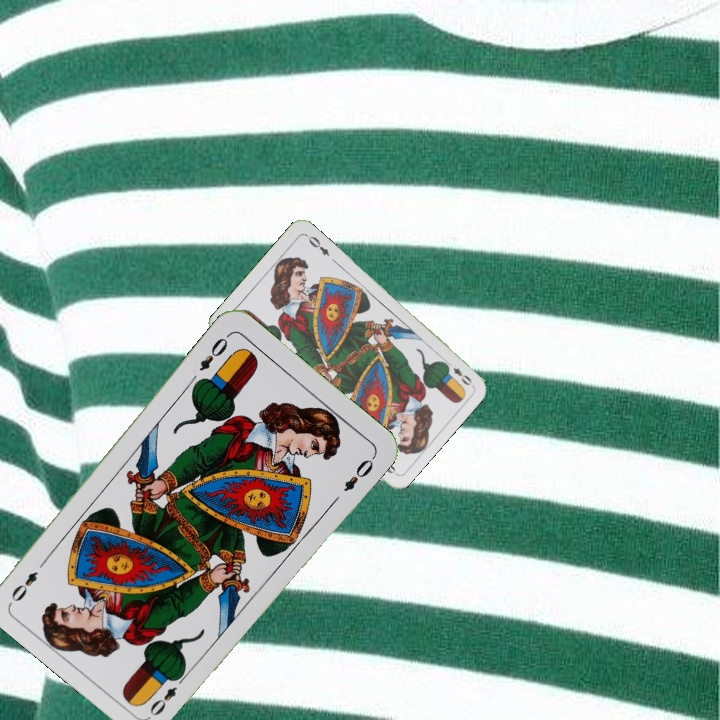EO: (145, 669, 189, 719), (195, 329, 233, 374), (441, 357, 475, 388)
